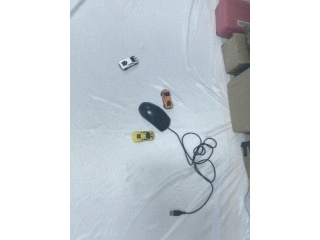box: (221, 33, 251, 75)
mouse: (138, 102, 171, 132)
toy_car: (118, 55, 139, 70), (132, 130, 155, 143), (161, 89, 173, 109)
